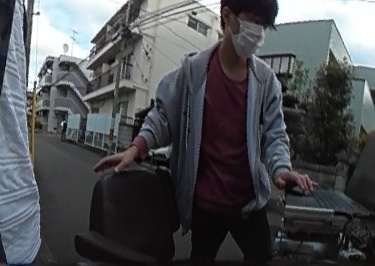person: (153, 2, 304, 266), (59, 116, 68, 134)
